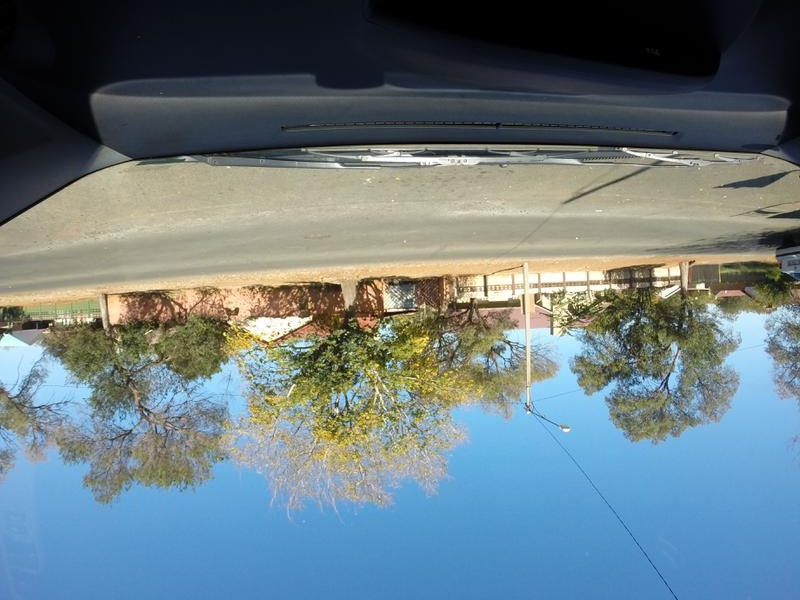pothole: (301, 230, 328, 240)
